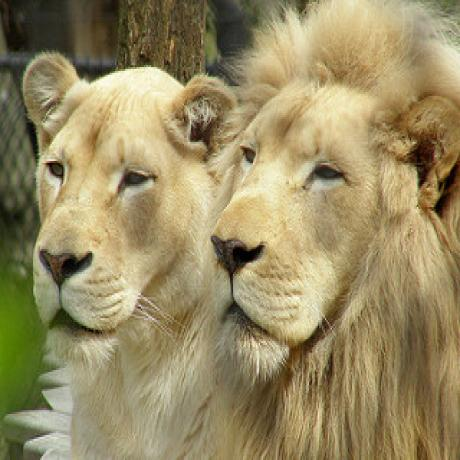Lion: (211, 0, 460, 460), (21, 51, 226, 460)
